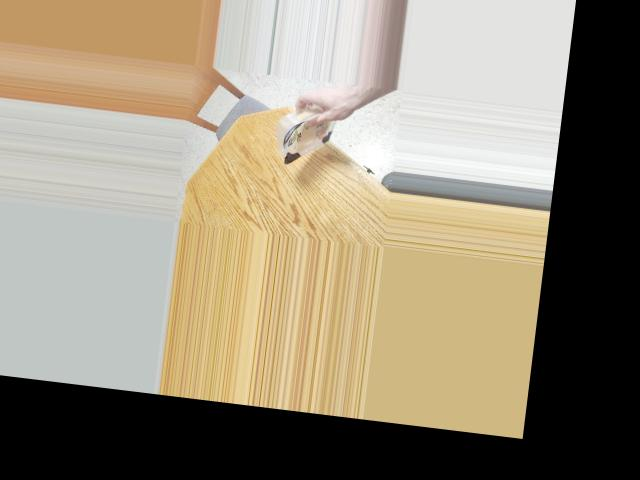cheese: (266, 103, 355, 168)
